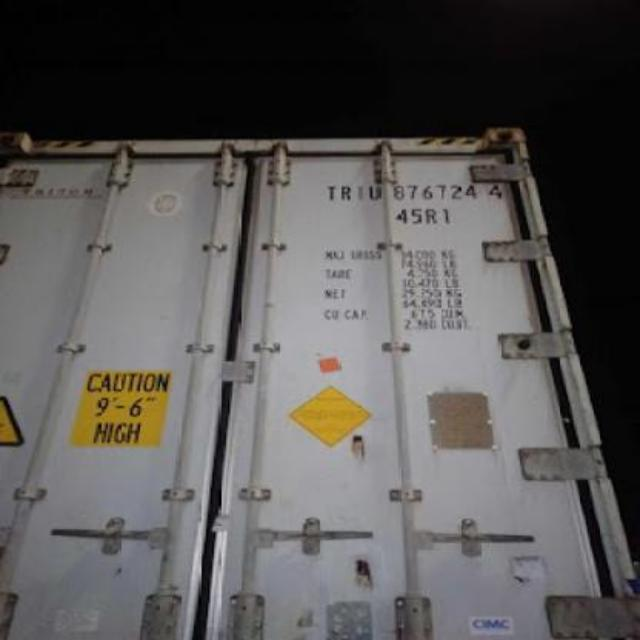2: (450, 182, 462, 205)
4: (486, 178, 506, 204), (464, 180, 480, 203)
6: (422, 185, 434, 203)
7: (436, 183, 449, 201), (406, 182, 418, 200)
8: (392, 183, 404, 201)
I: (352, 180, 368, 207)
R: (338, 180, 352, 203)
T: (322, 178, 338, 204)
U: (368, 181, 384, 207)
